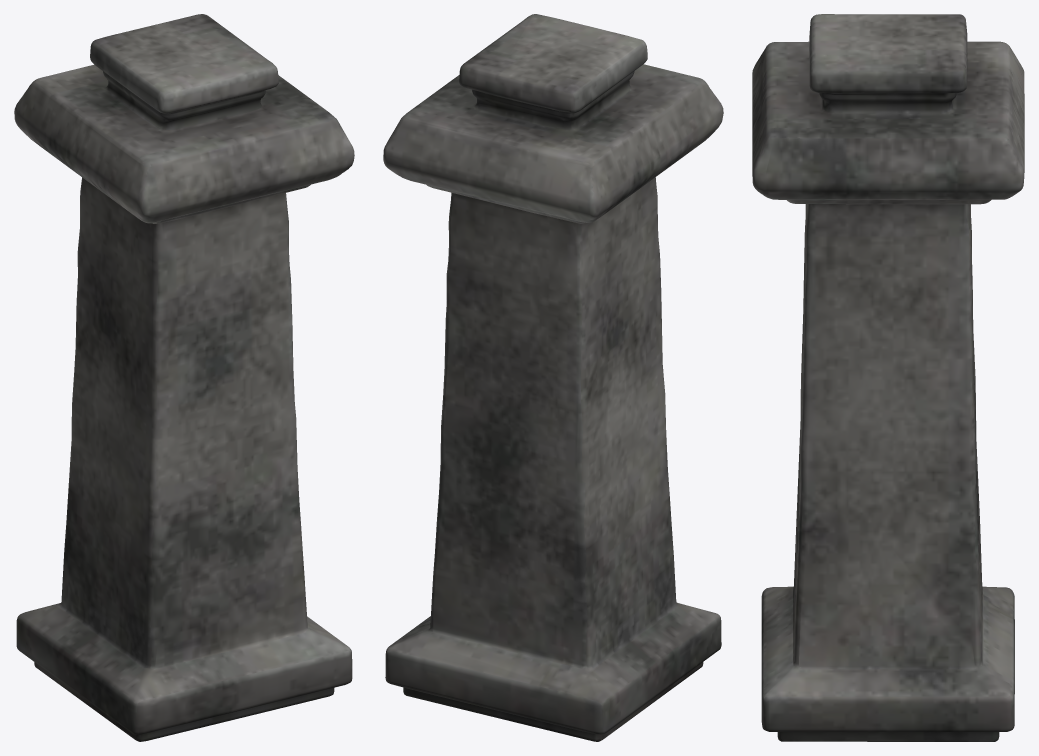
File: simple-granite-chimney-stack-v002.glb
3 renders of one model, left to right at view 1: azimuth 30°, elevation 25°; view 2: azimuth 150°, elevation 25°; view 3: azimuth 270°, elevation 25°, orthographic. The views are drawn at different scales.
Visible parts, largest first — view 1: simple-granite-chimney-stack; view 2: simple-granite-chimney-stack; view 3: simple-granite-chimney-stack.
Part boxes in pixels (x1,y1,x2,y2): simple-granite-chimney-stack: [14, 14, 354, 741]; simple-granite-chimney-stack: [383, 14, 723, 741]; simple-granite-chimney-stack: [752, 14, 1024, 741].
Size of the model in its own units: 0.6902 by 1.88 by 0.7101.
1 material, 1 textured.
